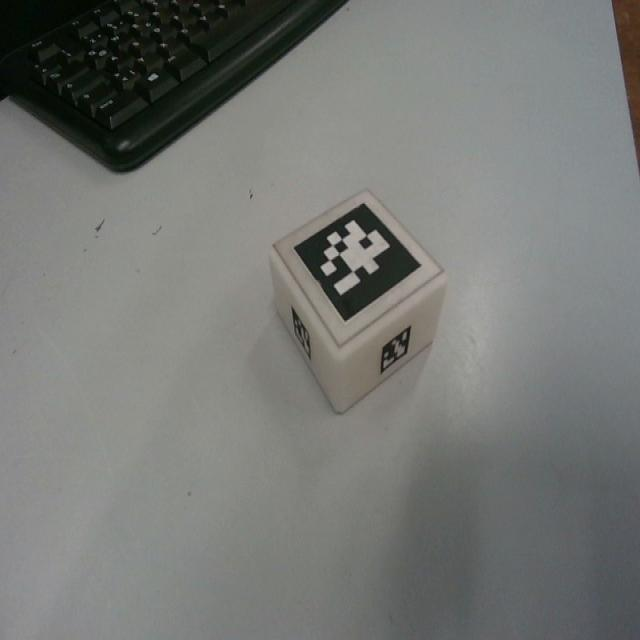Cube: (267, 187, 447, 413)
